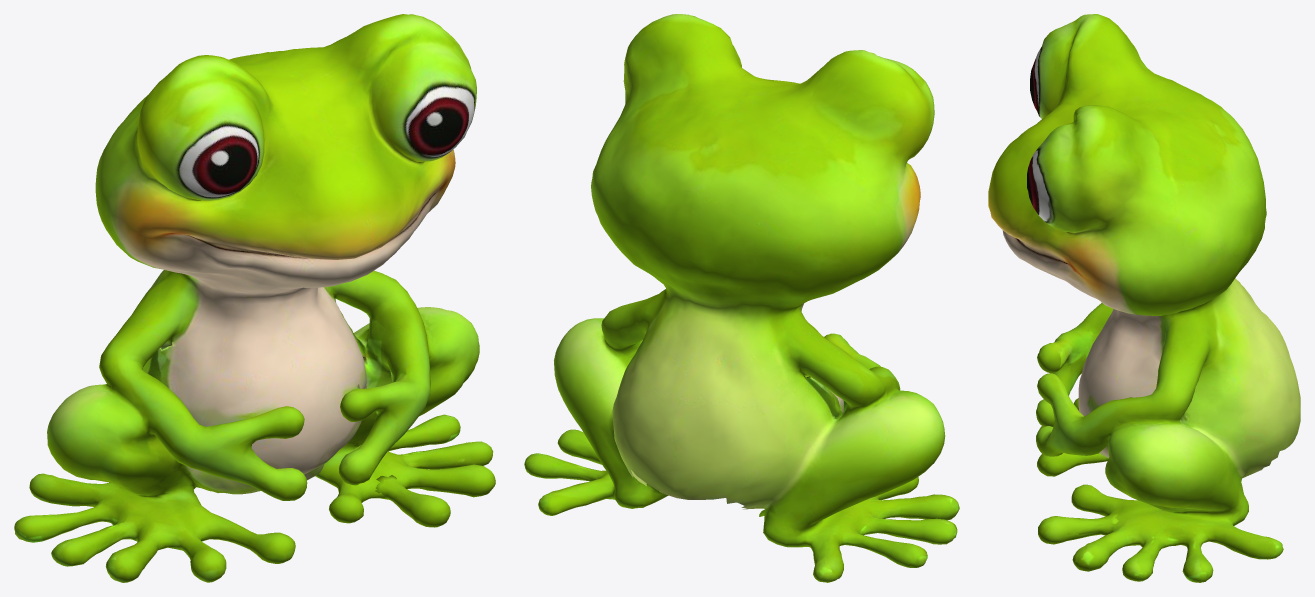
File: frog_green_v1.glb
The picture shows the model from 3 angles, left to right: view 1: azimuth 30°, elevation 25°; view 2: azimuth 150°, elevation 25°; view 3: azimuth 270°, elevation 25°; orthographic projection. The views are drawn at different scales.
Size of the model in its own units: 1.77 by 1.9 by 1.23.
1 material, 1 textured.
